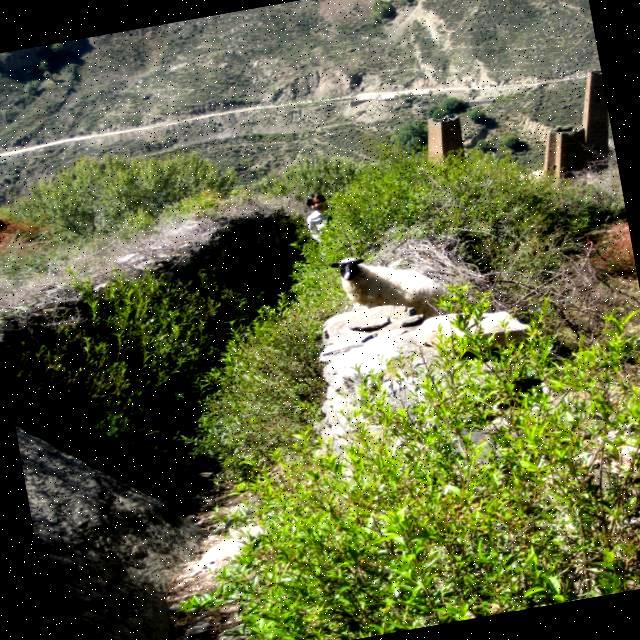sheep: (328, 256, 441, 315)
